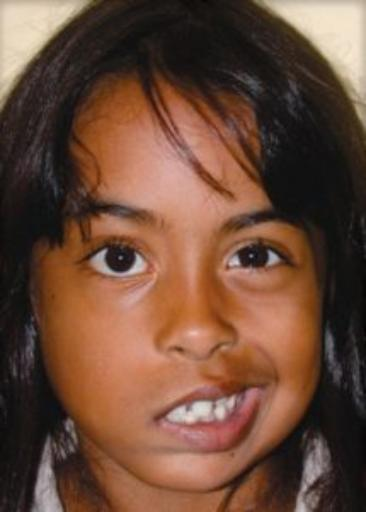left_eye: (224, 241, 298, 281)
left_lip_corner: (257, 369, 279, 398)
right_eye: (76, 243, 155, 284)
right_lip_corner: (144, 407, 166, 432)
